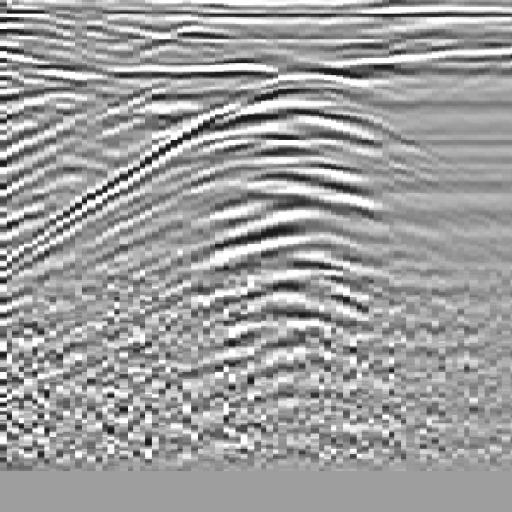metalic: (21, 63, 483, 378)
